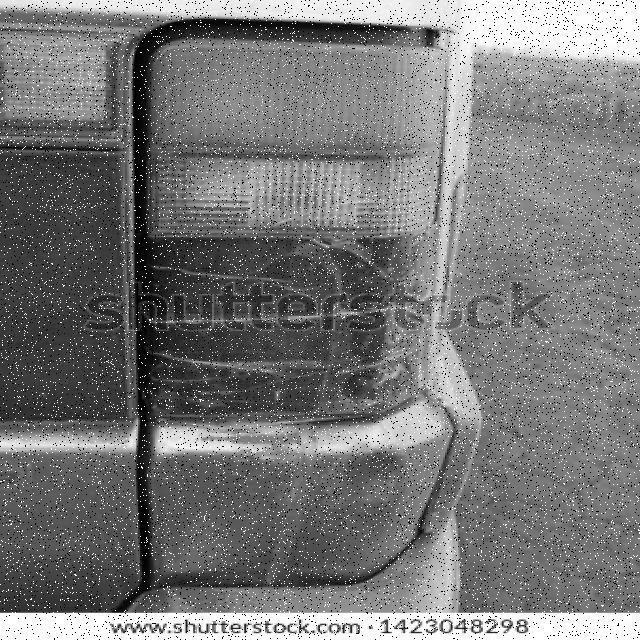Taillight-Damage: (122, 4, 449, 414)
rear-bumper-dent: (0, 384, 548, 617)
